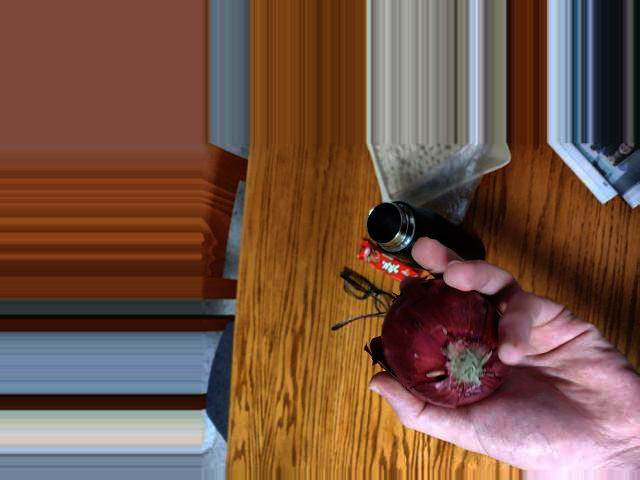onion: (393, 280, 508, 409)
